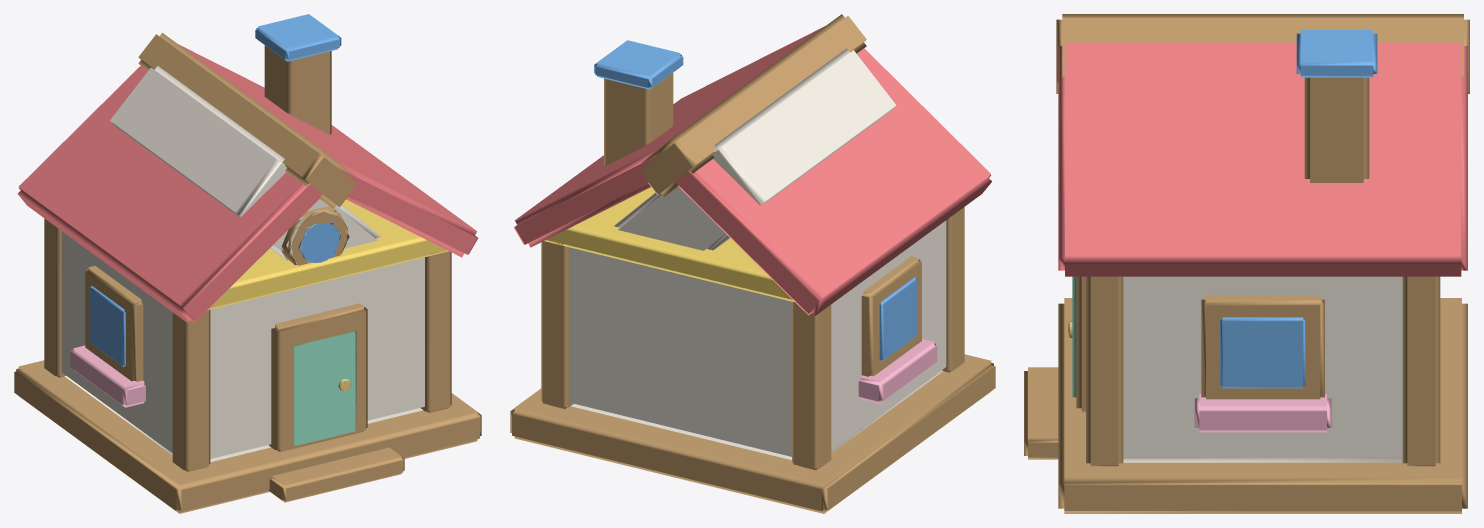
The model's file is toy_house_red.glb.
3 renders of one model, left to right at view 1: azimuth 30°, elevation 25°; view 2: azimuth 150°, elevation 25°; view 3: azimuth 270°, elevation 25°, orthographic. The views are drawn at different scales.
Visible parts, largest first — view 1: Body, RoofSlab_L, Plinth, GableCore, RoofSlab_R, RoofGable, EaveBand, DoorFrame, DoorLeaf, CornerPost_-1.28_-1.18, Chimney, CornerPost_1.28_-1.18 (+8 smaller); view 2: Body, RoofSlab_L, Plinth, GableCore, RoofSlab_R, RoofGable, EaveBand, CornerPost_-1.28_1.18, CornerPost_1.28_1.18, Chimney, SideWinFrame_-1.0, CornerPost_-1.28_-1.18 (+3 smaller); view 3: RoofSlab_R, Body, Plinth, RoofGable, CornerPost_1.28_1.18, CornerPost_1.28_-1.18, SideWinFrame_1.0, Chimney, SideWinPane_1.0, SidePlanter_1.0, ChimneyCap, PorchStep (+2 smaller).
Boxes of the visible parts, left/top/right/bottom form: Body: left=61, top=231, right=424, bottom=462; RoofSlab_L: left=17, top=66, right=322, bottom=322; Plinth: left=14, top=360, right=481, bottom=513; GableCore: left=110, top=66, right=381, bottom=260; RoofSlab_R: left=178, top=44, right=478, bottom=257; RoofGable: left=138, top=32, right=356, bottom=208; EaveBand: left=207, top=199, right=448, bottom=310; DoorFrame: left=268, top=303, right=367, bottom=452; DoorLeaf: left=293, top=331, right=356, bottom=445; CornerPost_-1.28_-1.18: left=172, top=309, right=210, bottom=471; Chimney: left=264, top=45, right=331, bottom=134; CornerPost_1.28_-1.18: left=420, top=251, right=451, bottom=412; Body: left=569, top=220, right=946, bottom=459; RoofSlab_L: left=675, top=48, right=991, bottom=315; Plinth: left=510, top=354, right=995, bottom=513; GableCore: left=614, top=48, right=896, bottom=250; RoofSlab_R: left=514, top=26, right=824, bottom=247; RoofGable: left=640, top=14, right=866, bottom=196; EaveBand: left=544, top=187, right=794, bottom=301; CornerPost_-1.28_1.18: left=792, top=301, right=831, bottom=470; CornerPost_1.28_1.18: left=541, top=240, right=573, bottom=409; Chimney: left=604, top=73, right=673, bottom=165; SideWinFrame_-1.0: left=861, top=256, right=921, bottom=376; CornerPost_-1.28_-1.18: left=942, top=207, right=964, bottom=372; RoofSlab_R: left=1058, top=42, right=1467, bottom=276; Body: left=1123, top=276, right=1402, bottom=462; Plinth: left=1058, top=298, right=1467, bottom=513; RoofGable: left=1056, top=14, right=1469, bottom=93; CornerPost_1.28_1.18: left=1402, top=276, right=1440, bottom=466; CornerPost_1.28_-1.18: left=1086, top=276, right=1123, bottom=466; SideWinFrame_1.0: left=1201, top=295, right=1324, bottom=399; Chimney: left=1304, top=77, right=1369, bottom=182; SideWinPane_1.0: left=1220, top=317, right=1305, bottom=388; SidePlanter_1.0: left=1194, top=394, right=1331, bottom=432; ChimneyCap: left=1296, top=30, right=1377, bottom=77; PorchStep: left=1024, top=367, right=1058, bottom=459.
Bounding box in the file's own units: 3.25 × 3.51 × 3.32.
